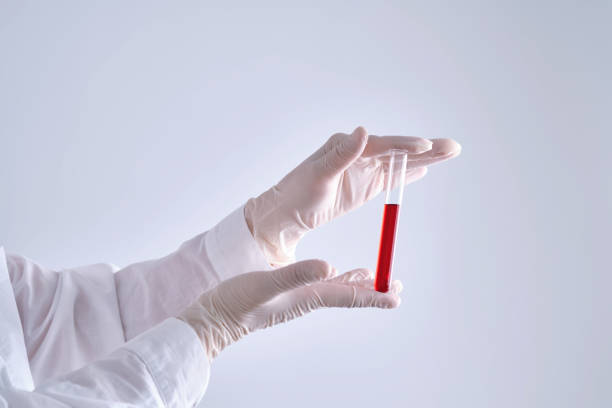blood: (374, 200, 403, 293)
